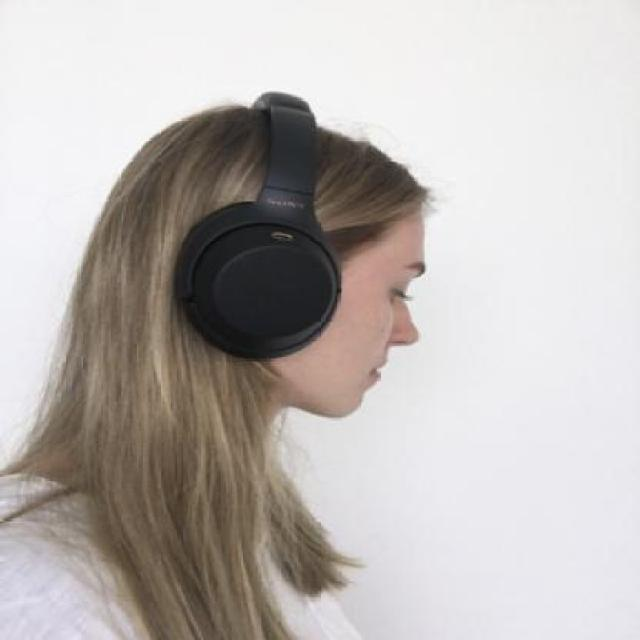earphone: (193, 40, 352, 407)
